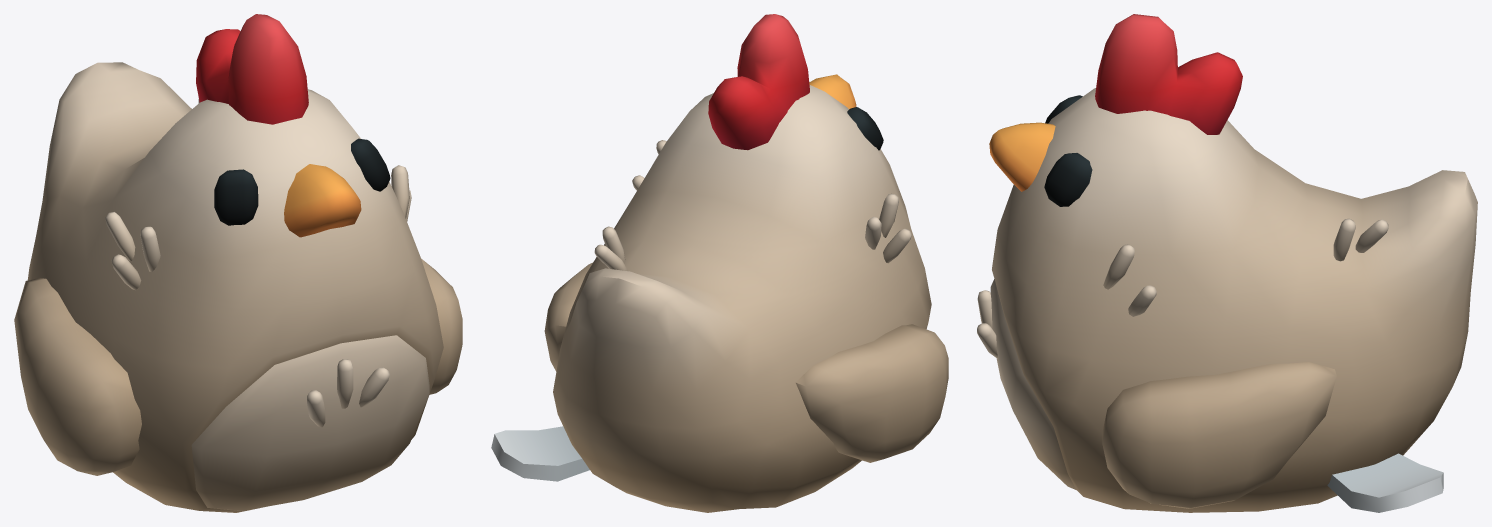
File: chicken_plushie_A.fbx
3 renders of one model, left to right at view 1: azimuth 30°, elevation 25°; view 2: azimuth 150°, elevation 25°; view 3: azimuth 270°, elevation 25°, orthographic. The views are drawn at different scales.
Visible parts, largest first — view 1: chicken_plushie_A; view 2: chicken_plushie_A; view 3: chicken_plushie_A.
Part boxes in pixels (box(x1,y1,x2,y2)): chicken_plushie_A: box(14, 14, 462, 512); chicken_plushie_A: box(491, 14, 948, 512); chicken_plushie_A: box(977, 14, 1477, 512).
Size of the model in its own units: 82.55 by 91.23 by 91.87.
